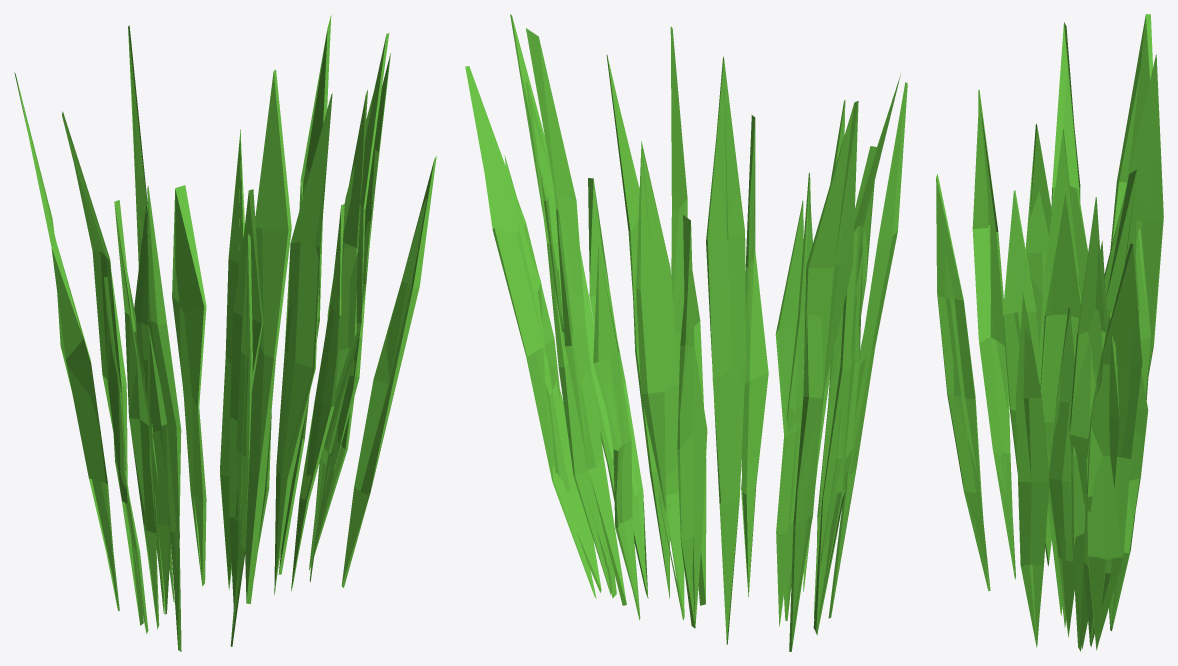
File: grass.004.fbx
3 views of the same model, side by side, from view 1: azimuth 30°, elevation 25°; view 2: azimuth 150°, elevation 25°; view 3: azimuth 270°, elevation 25° (orthographic). The views are drawn at different scales.
Parts seen in each view (by area): view 1: Plane; view 2: Plane; view 3: Plane.
Boxes of the visible parts, x1,y1,x2,y2 form: Plane: [14, 15, 436, 651]; Plane: [465, 14, 907, 651]; Plane: [936, 14, 1163, 651].
Bounding box in the file's own units: 3.74 × 5.49 × 2.11.
